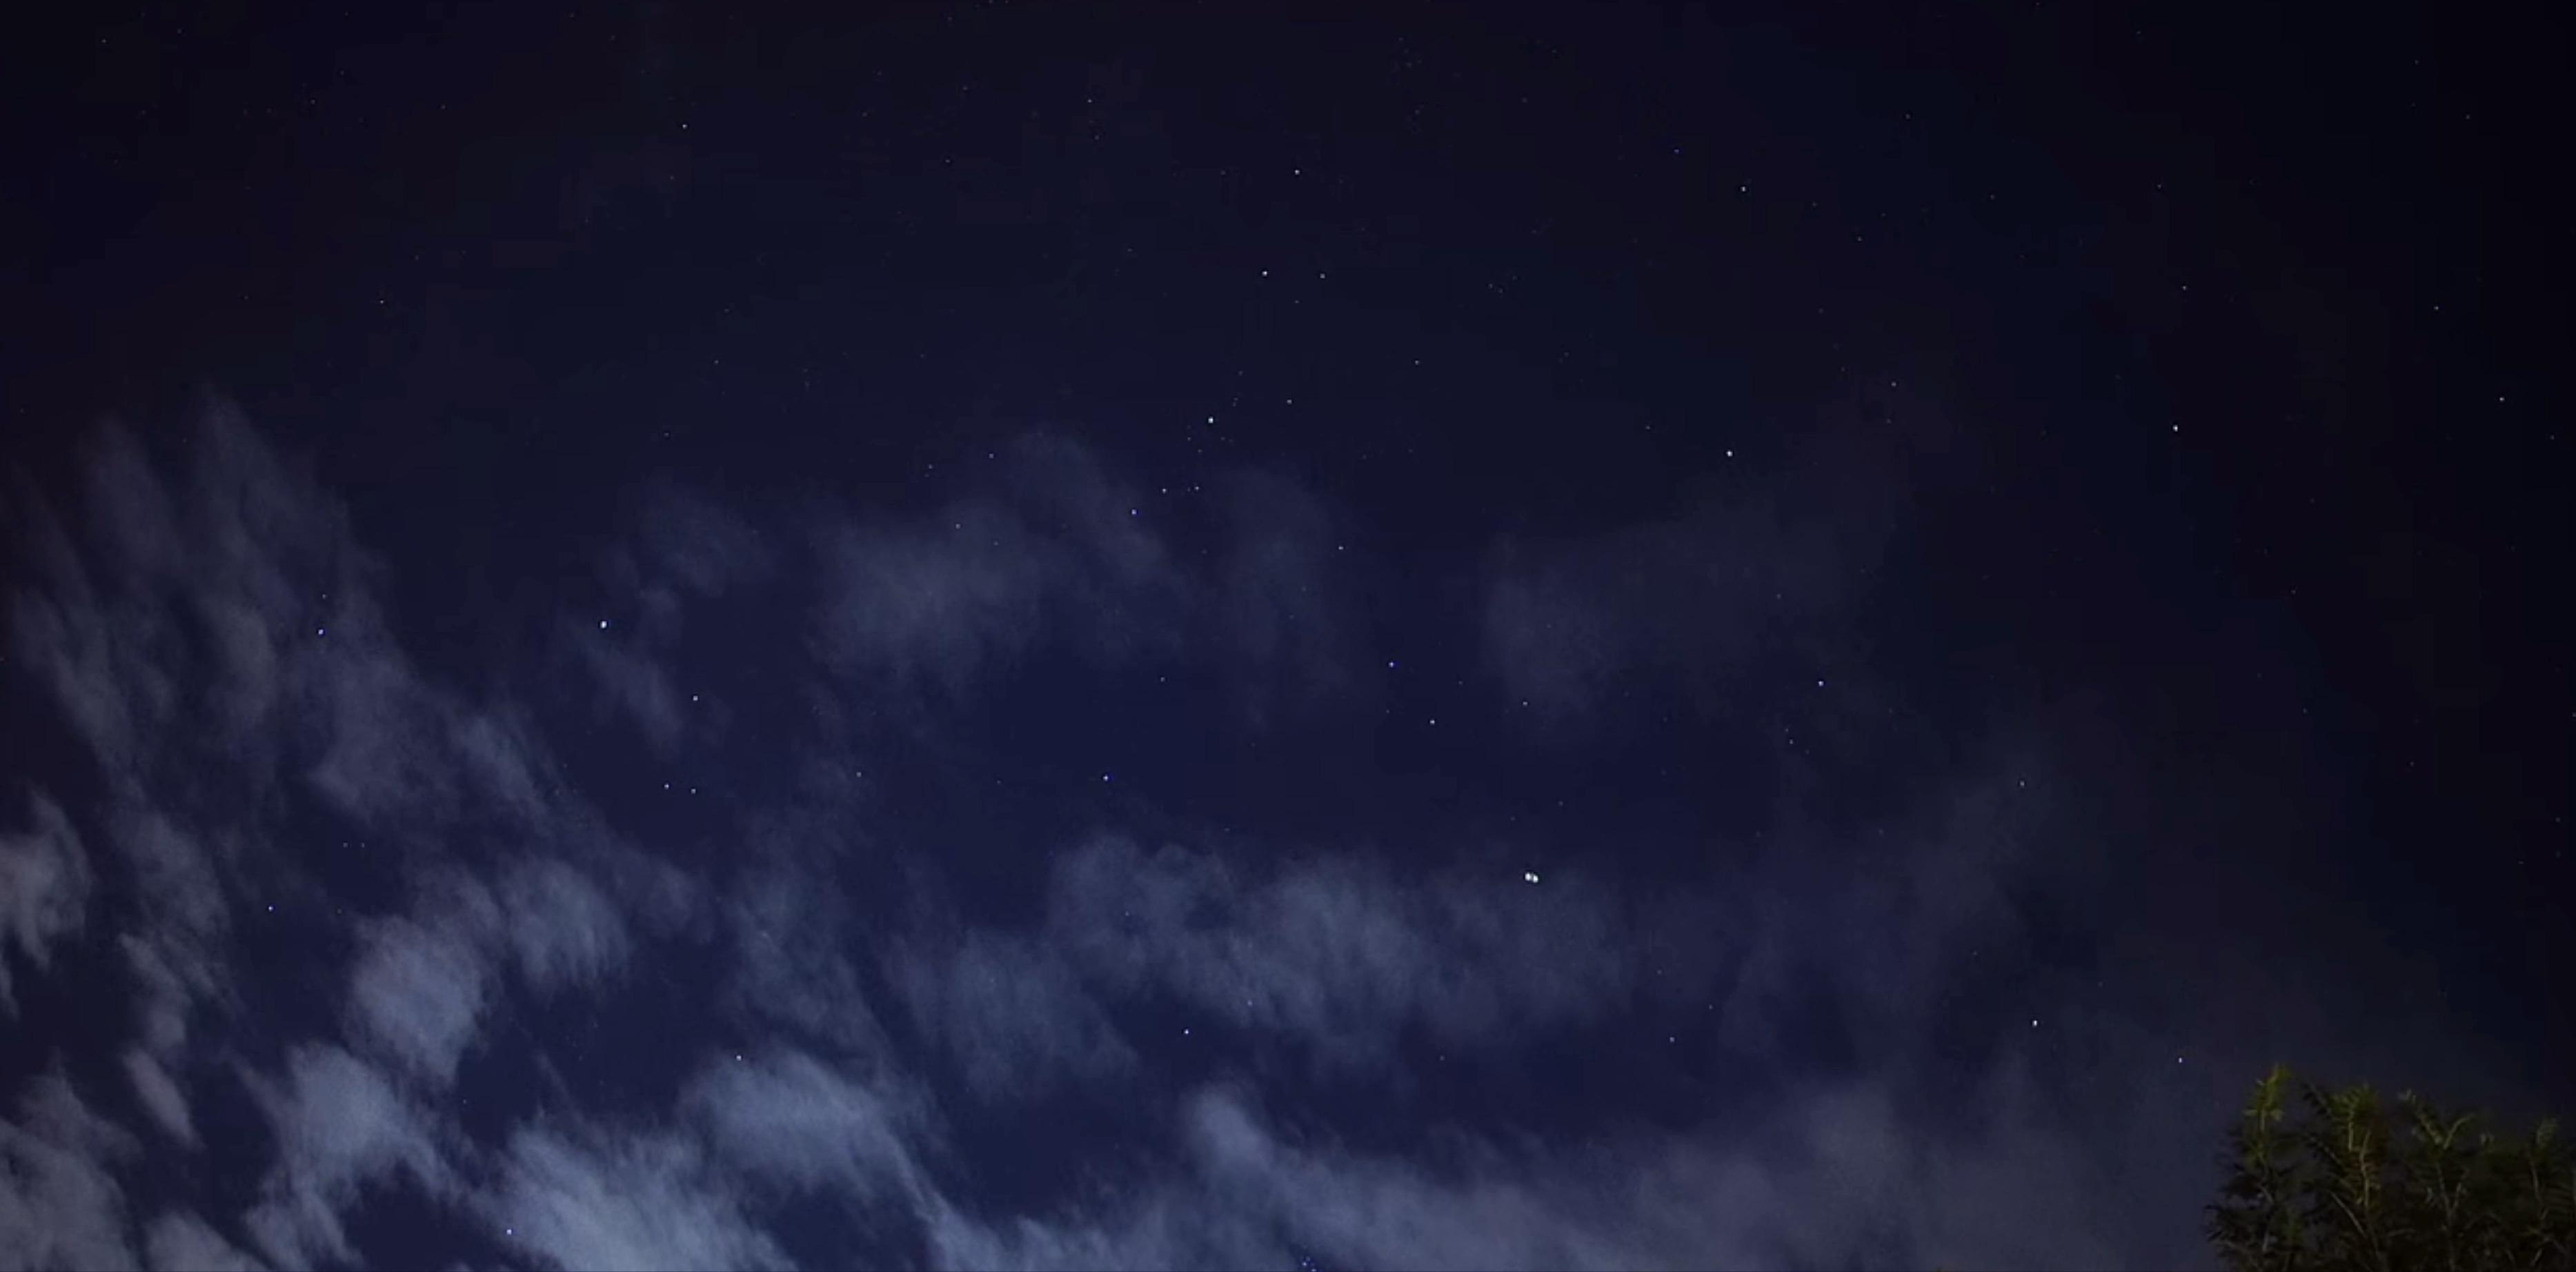Plane: (1510, 853, 1551, 914)
